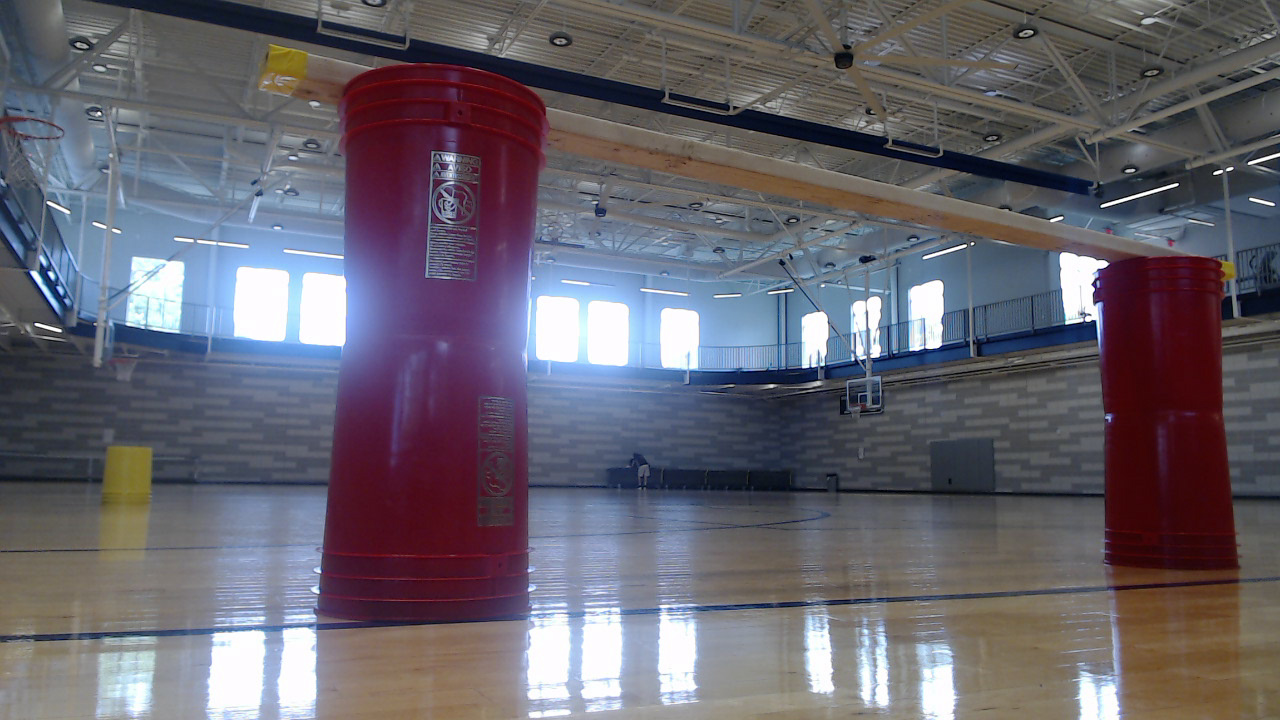red_bucket_arch: (318, 63, 1247, 633)
yellow_bucket: (99, 446, 164, 515)
